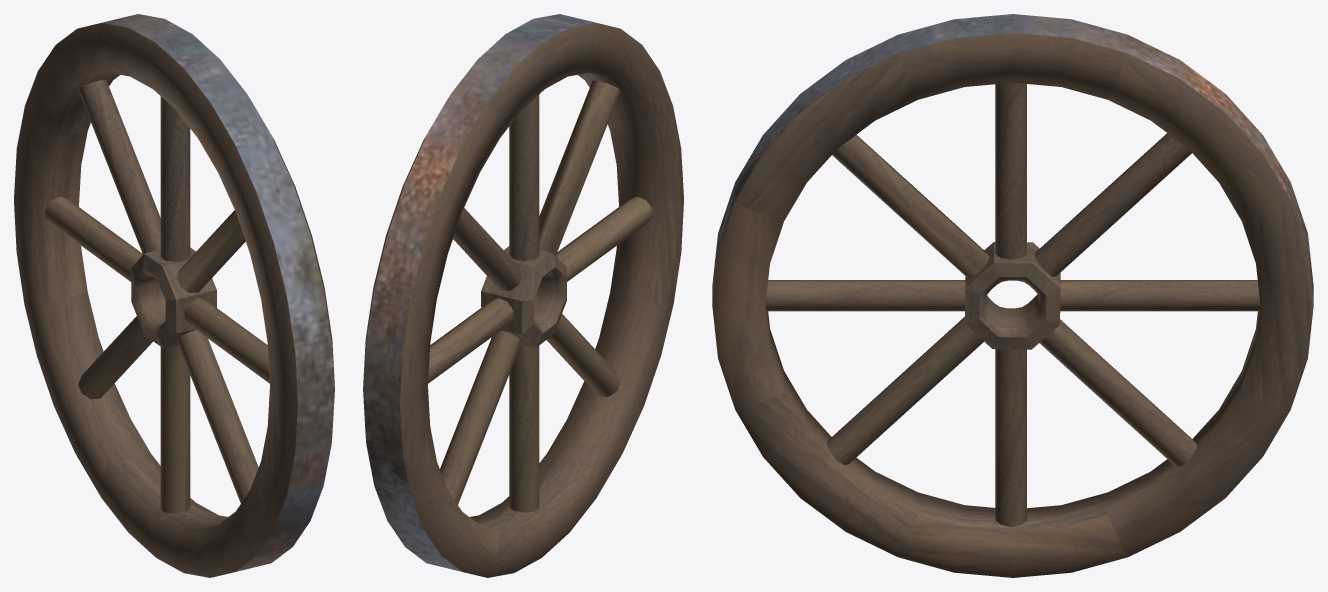
The model's file is wagon_wheel.fbx.
3 views of the same model, side by side, from view 1: azimuth 30°, elevation 25°; view 2: azimuth 150°, elevation 25°; view 3: azimuth 270°, elevation 25° (orthographic). The views are drawn at different scales.
Visible parts, largest first — view 1: spare wheel.001, spare wheel metal; view 2: spare wheel.001, spare wheel metal; view 3: spare wheel.001, spare wheel metal.
Boxes of the visible parts, <box> form: spare wheel.001: <box>14,23,334,577</box>; spare wheel metal: <box>93,14,334,571</box>; spare wheel.001: <box>363,23,683,577</box>; spare wheel metal: <box>363,14,604,571</box>; spare wheel.001: <box>712,33,1313,577</box>; spare wheel metal: <box>712,14,1313,302</box>.
Bounding box in the file's own units: 11.84 × 117 × 117.
2 materials, 2 textured.
